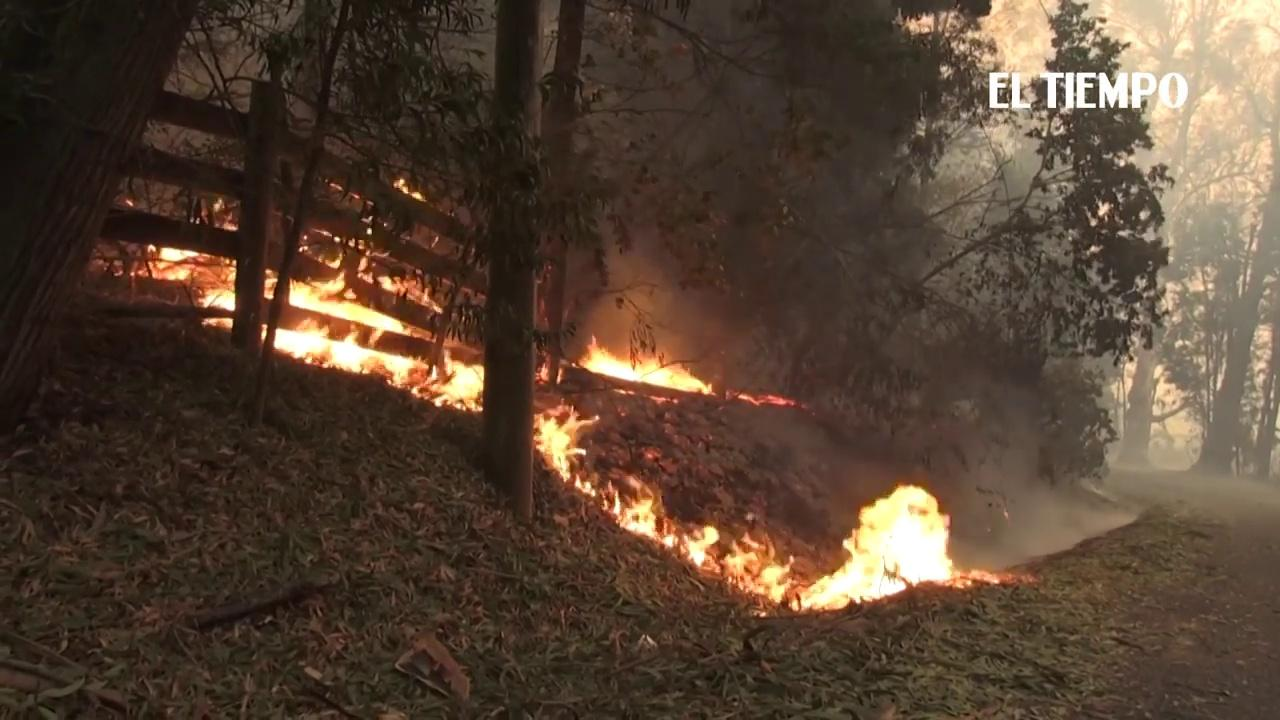Fire: (609, 478, 964, 609), (282, 260, 488, 408), (142, 240, 239, 329), (576, 339, 715, 396), (537, 397, 601, 495), (739, 385, 802, 412), (391, 171, 429, 205), (213, 196, 237, 235)
